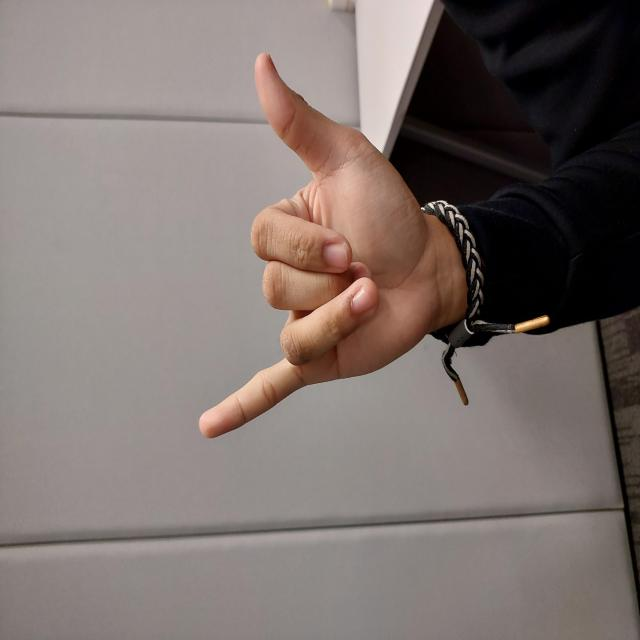Y: (201, 197, 588, 437)
